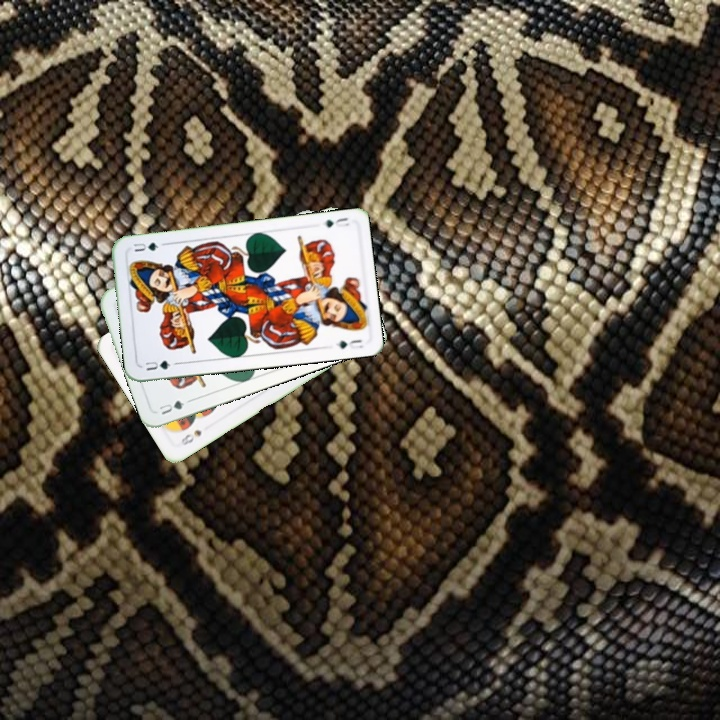GU: (154, 396, 187, 417), (140, 356, 180, 373), (321, 213, 352, 230)
S8: (177, 426, 204, 448)
